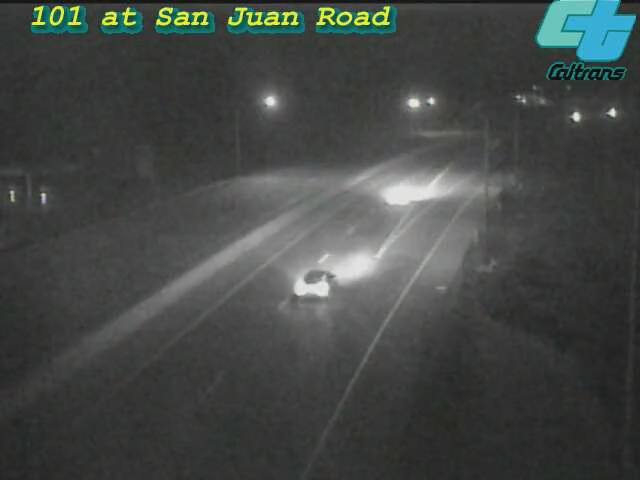vehicle: (359, 156, 439, 236), (274, 244, 354, 324), (552, 91, 602, 141), (587, 88, 637, 138)
